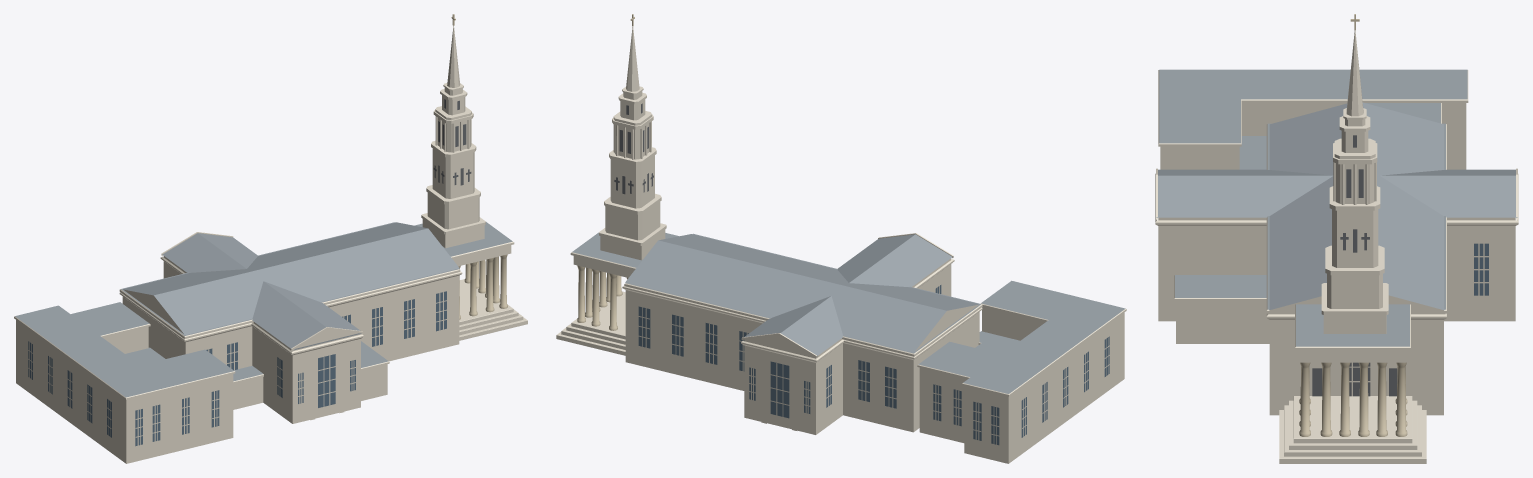
File: cin-st-peter-in-chains.glb
The picture shows the model from 3 angles, left to right: view 1: azimuth 30°, elevation 25°; view 2: azimuth 150°, elevation 25°; view 3: azimuth 270°, elevation 25°; orthographic projection. The views are drawn at different scales.
Parts seen in each view (by area): view 1: Cathedral Basilica of St. Peter in Chains; view 2: Cathedral Basilica of St. Peter in Chains; view 3: Cathedral Basilica of St. Peter in Chains.
Part boxes in pixels (x1=…): Cathedral Basilica of St. Peter in Chains: x1=14, y1=14, x2=527, y2=463; Cathedral Basilica of St. Peter in Chains: x1=556, y1=14, x2=1126, y2=463; Cathedral Basilica of St. Peter in Chains: x1=1155, y1=14, x2=1518, y2=463.
Bounding box in the file's own units: 104 × 67.5 × 53.2.
